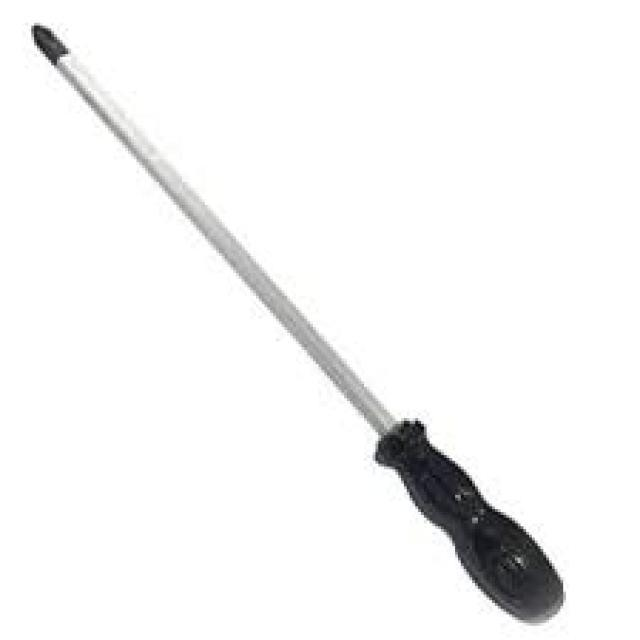screwdriver: (25, 18, 569, 628)
